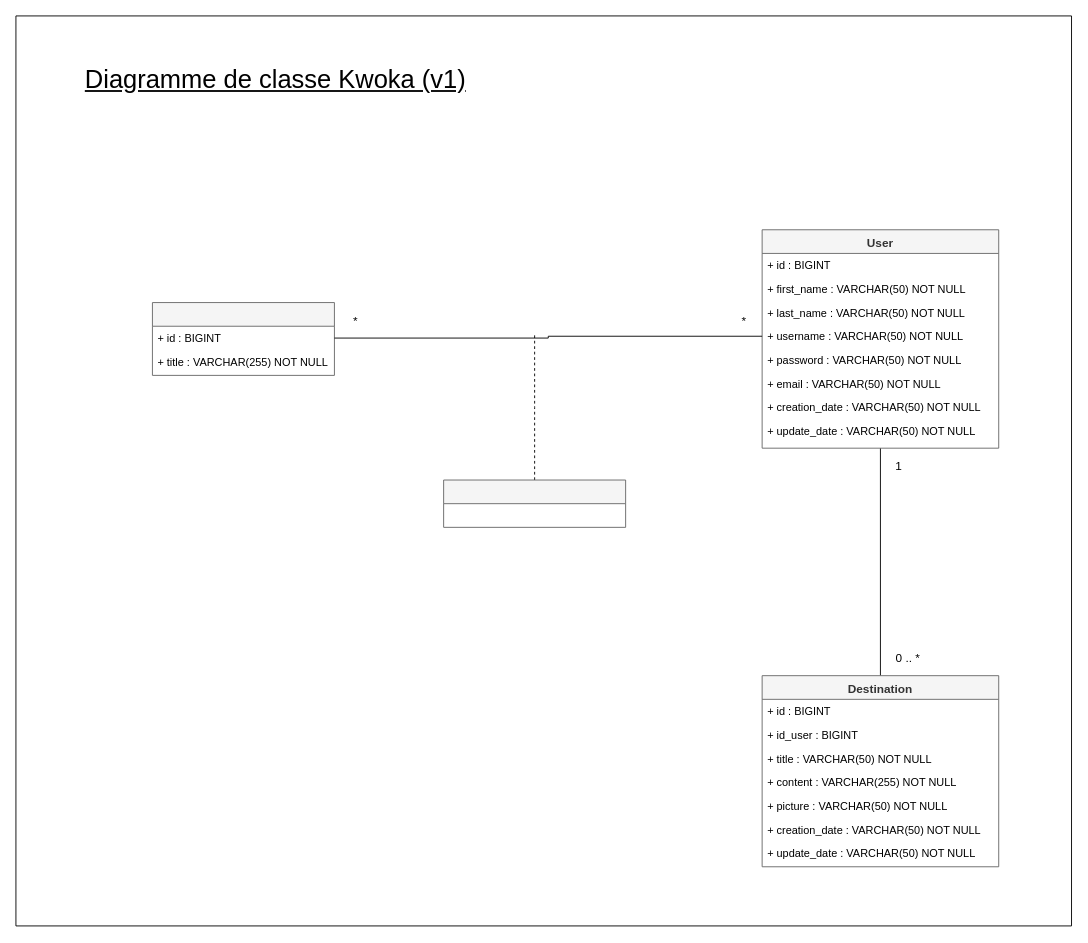
Image size: 1088x943. Some labels were removed from this diagram. Here are the shapes that lost their labels. From the top down, the box of each, then its label:
(152, 302, 334, 375): Role
(443, 479, 626, 527): RoleUser
